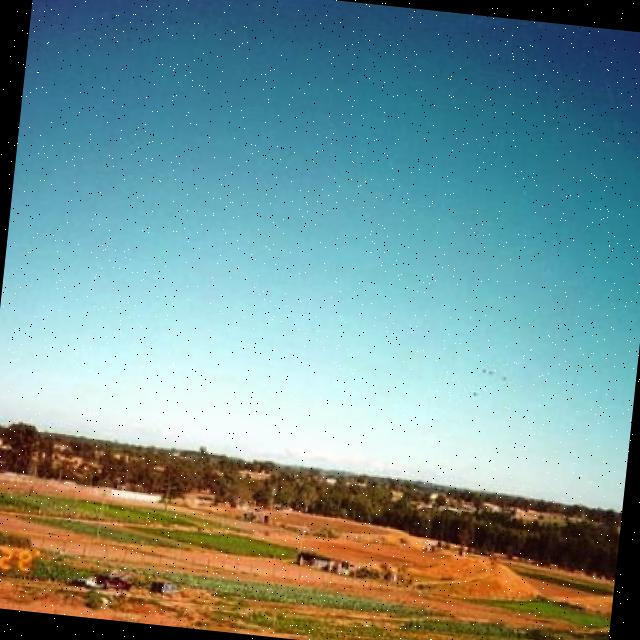St: (1, 17, 640, 479)
